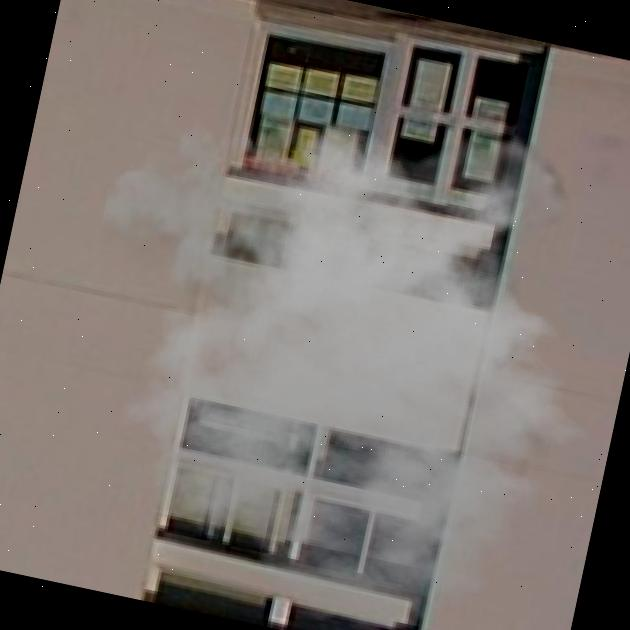smoke: (29, 47, 630, 630)
